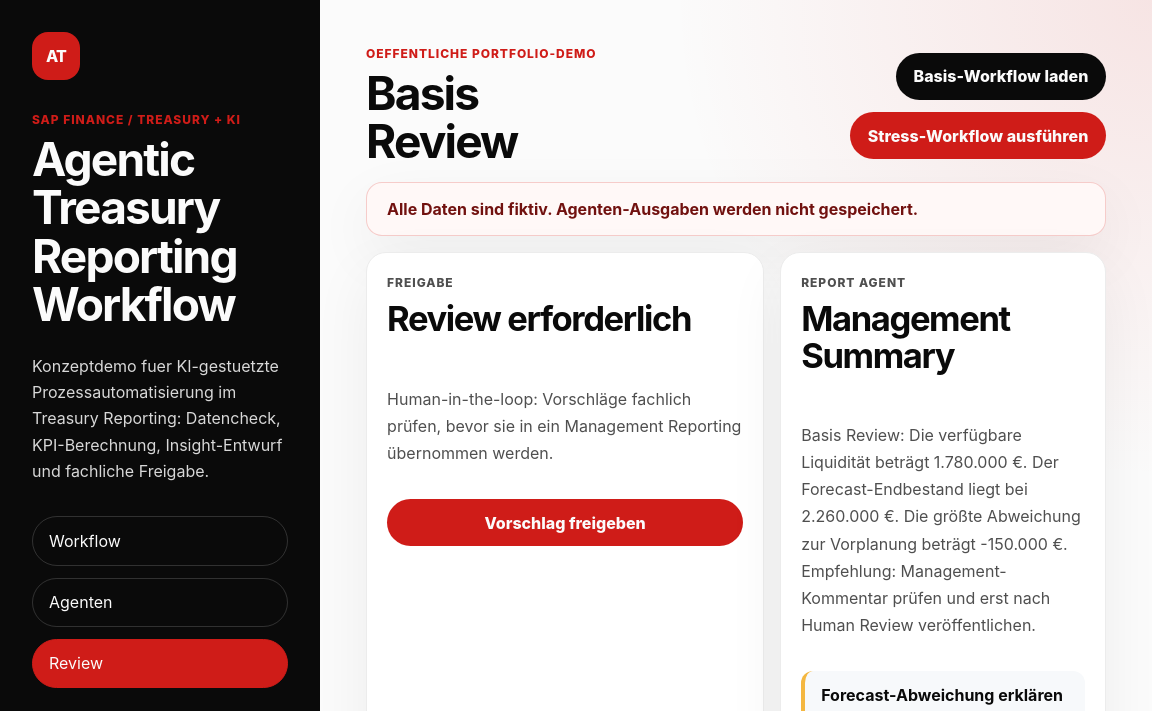
Scenario: Agentic Treasury Reporting Workflow app › supports human approval in the review view
The image size is (1152, 711).
Click the button "Vorschlag freigeben" at (565, 523), box [387,499,743,546]
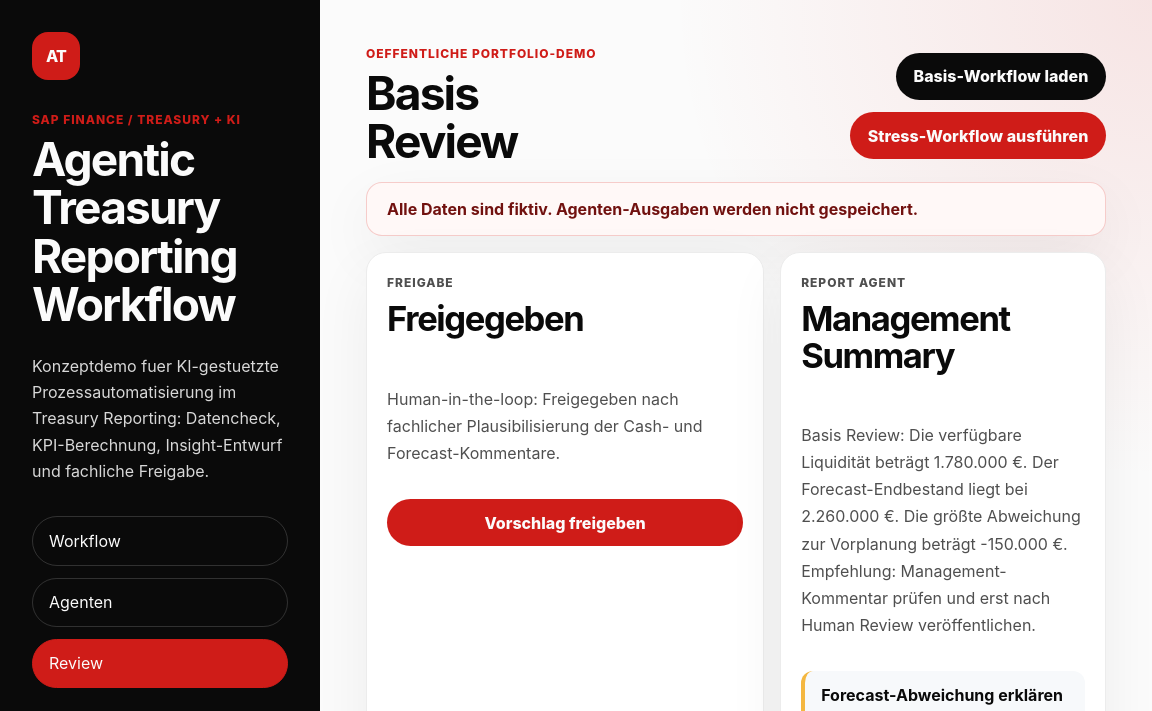
Check: the text "Human-in-the-loop" is shown, box [387,388,702,463]
Check: the heading "Freigegeben" is shown, box [387,298,583,339]
